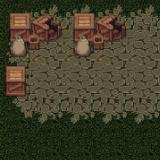Hide: (0, 63, 34, 100)
Obstacle: (70, 9, 130, 64), (5, 10, 63, 63)
